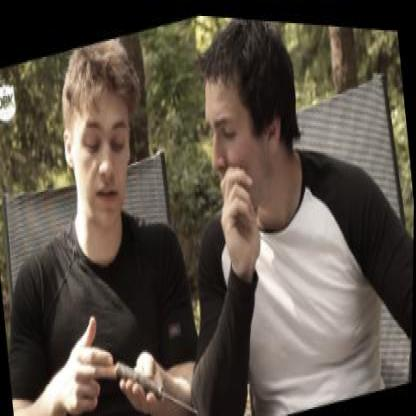knife: (109, 318, 205, 414)
